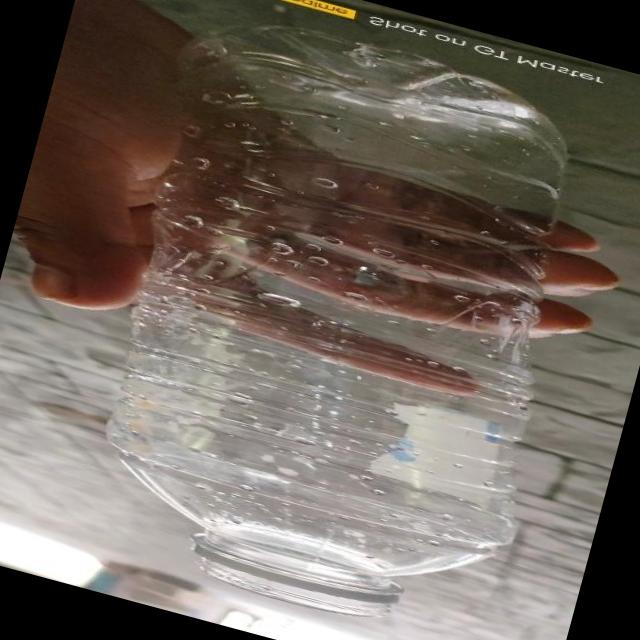plastic_bottle: (56, 0, 626, 640)
